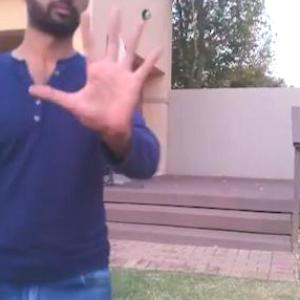follow_hand: (27, 4, 168, 138)
